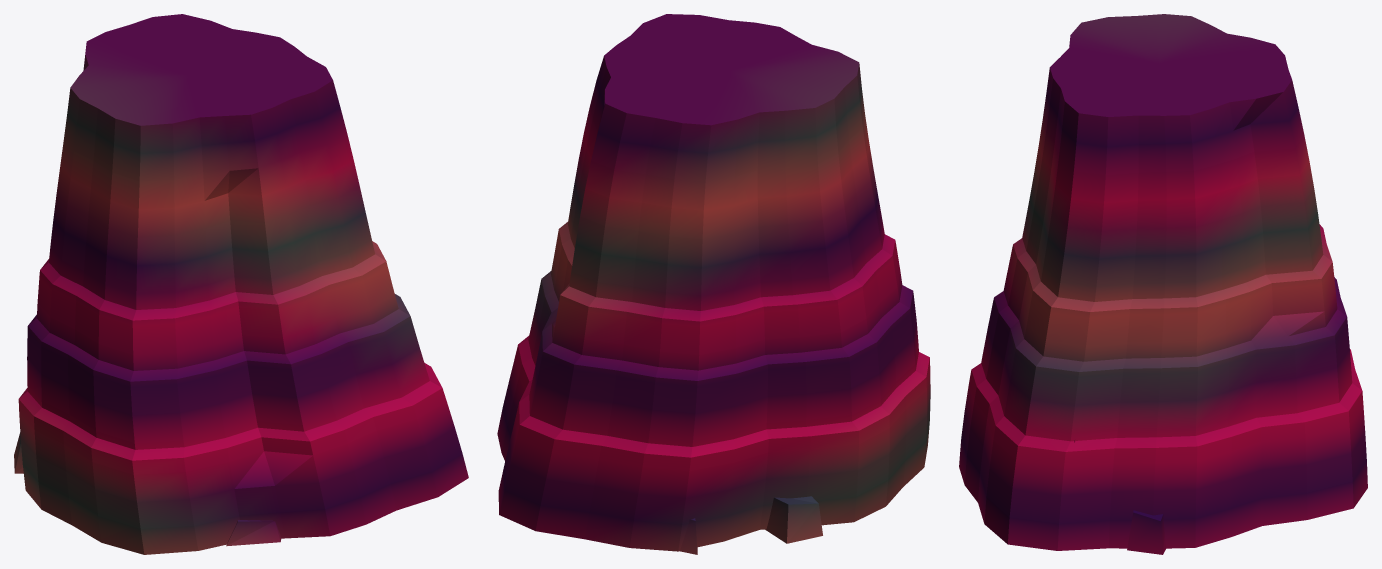
File: SM_CinderCanyon_Rock_D.fbx
3 renders of one model, left to right at view 1: azimuth 30°, elevation 25°; view 2: azimuth 150°, elevation 25°; view 3: azimuth 270°, elevation 25°, orthographic. The views are drawn at different scales.
Visible parts, largest first — view 1: SM_CinderCanyon_Rock_D; view 2: SM_CinderCanyon_Rock_D; view 3: SM_CinderCanyon_Rock_D.
Part boxes in pixels (x1=…): SM_CinderCanyon_Rock_D: x1=14, y1=14, x2=468, y2=554; SM_CinderCanyon_Rock_D: x1=497, y1=14, x2=930, y2=554; SM_CinderCanyon_Rock_D: x1=959, y1=14, x2=1367, y2=554.
Size of the model in its own units: 100 by 96 by 100.
